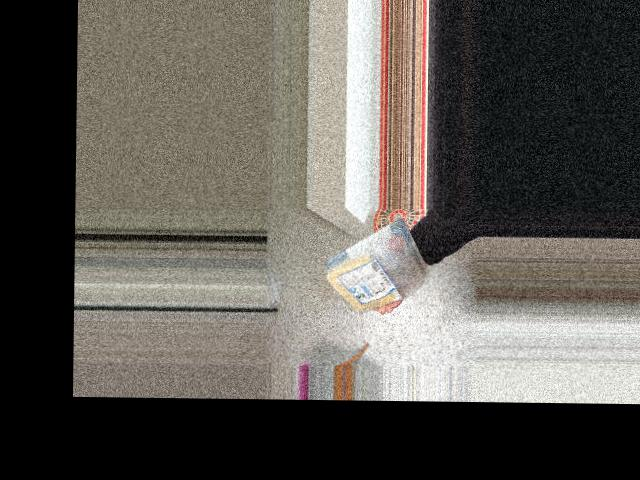cheese: (319, 211, 433, 322)
